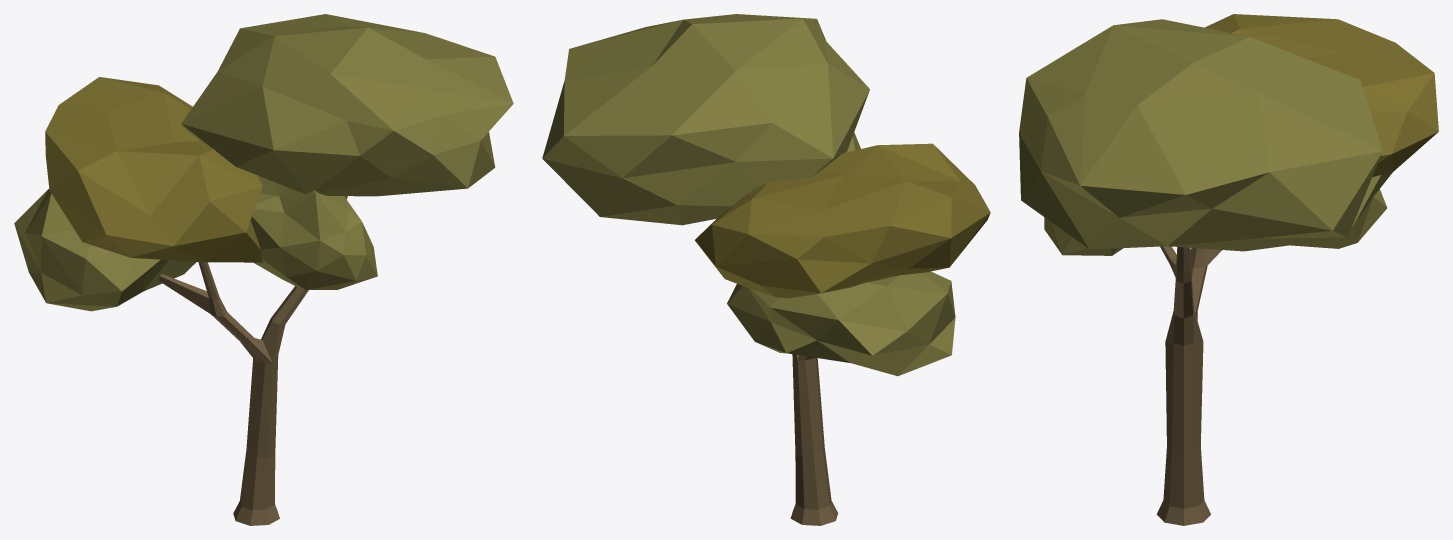
File: enchantedforest_tree_5.fbx
The picture shows the model from 3 angles, left to right: view 1: azimuth 30°, elevation 25°; view 2: azimuth 150°, elevation 25°; view 3: azimuth 270°, elevation 25°; orthographic projection. The views are drawn at different scales.
Parts seen in each view (by area): view 1: Cylinder.020; view 2: Cylinder.020; view 3: Cylinder.020.
Part boxes in pixels (x1,y1,x2,y2): Cylinder.020: (14, 14, 513, 525); Cylinder.020: (542, 14, 990, 525); Cylinder.020: (1019, 14, 1438, 525).
Bounding box in the file's own units: 606 × 641 × 474.
